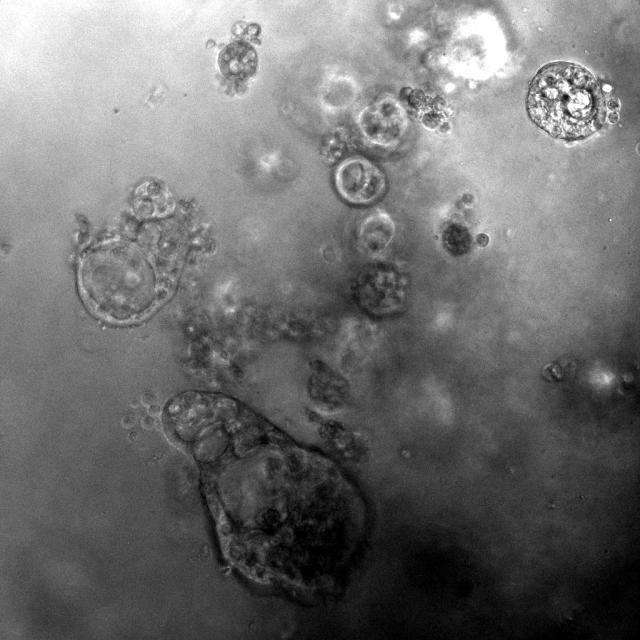organoid: (161, 391, 371, 603), (72, 178, 215, 328), (308, 65, 452, 207), (179, 293, 336, 388), (382, 0, 515, 93), (526, 61, 621, 140), (206, 20, 261, 95), (352, 261, 408, 316), (440, 194, 489, 255), (307, 359, 348, 411), (541, 359, 576, 381), (141, 392, 161, 416), (140, 415, 156, 430), (621, 371, 635, 388), (121, 414, 133, 428), (128, 431, 139, 441), (130, 399, 139, 410)
